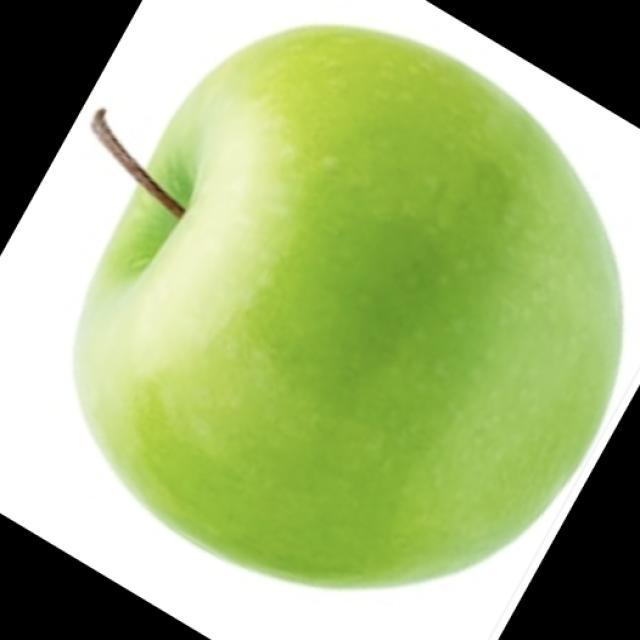Apple: (72, 23, 624, 590)
